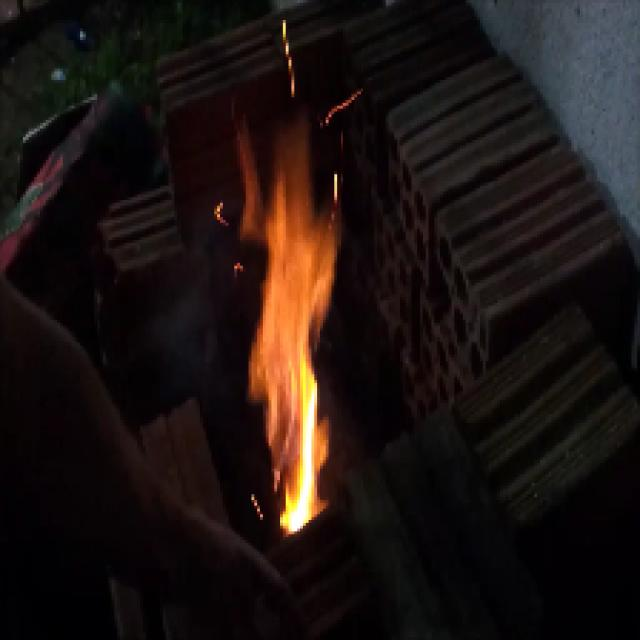fire: (237, 116, 343, 530)
